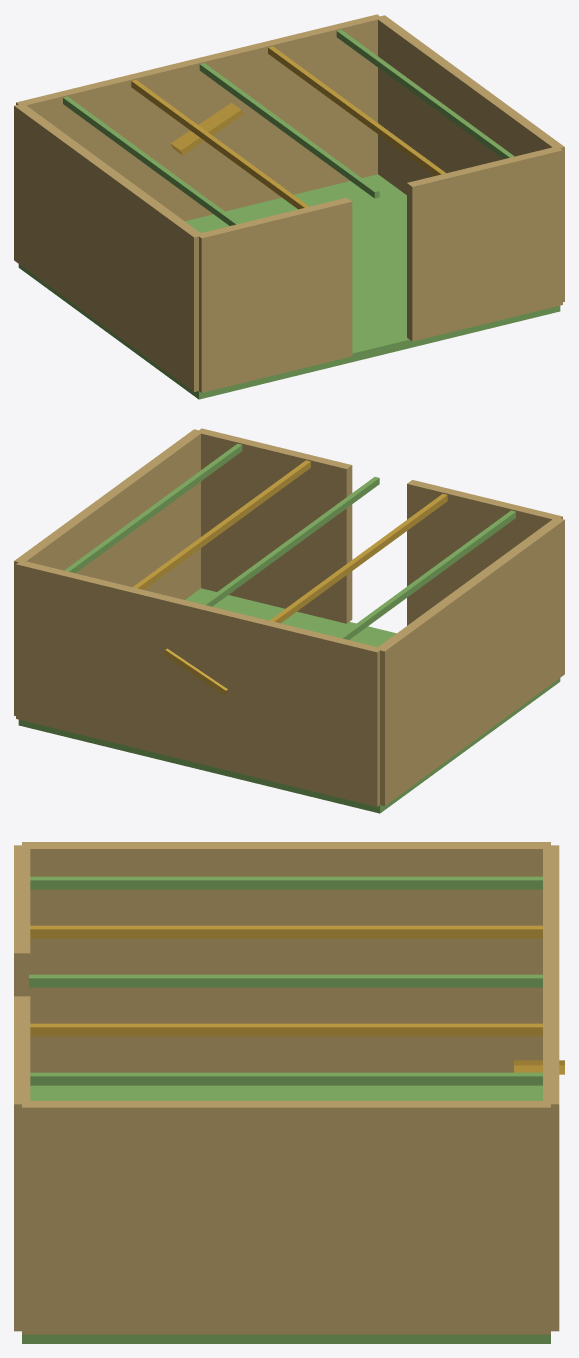
File: meadow_lodge.glb
3 renders of one model, top to bottom at view 1: azimuth 30°, elevation 25°; view 2: azimuth 150°, elevation 25°; view 3: azimuth 270°, elevation 25°, orthographic. The views are drawn at different scales.
Visible parts, largest first — view 1: wall_north, wall_west, wall_south_right, wall_south_left, wall_east, floor, ceiling_beam_0, ceiling_beam_2, ceiling_beam_-1, ceiling_beam_1, ceiling_beam_-2, purpose_adventure_lodge; view 2: wall_north, wall_west, wall_south_right, wall_east, wall_south_left, floor, ceiling_beam_0, ceiling_beam_2, ceiling_beam_-1, ceiling_beam_1, ceiling_beam_-2, purpose_adventure_lodge; view 3: wall_east, wall_west, floor, ceiling_beam_0, ceiling_beam_-2, ceiling_beam_-1, ceiling_beam_1, ceiling_beam_2, wall_north, wall_south_right, wall_south_left.
Part boxes in pixels (bbox=[...]): wall_north: bbox=[16, 14, 382, 221]; wall_west: bbox=[14, 104, 203, 391]; wall_south_right: bbox=[407, 146, 562, 341]; wall_south_left: bbox=[199, 197, 352, 392]; wall_east: bbox=[377, 15, 564, 301]; floor: bbox=[18, 174, 560, 399]; ceiling_beam_0: bbox=[199, 63, 379, 198]; ceiling_beam_2: bbox=[336, 29, 514, 159]; ceiling_beam_-1: bbox=[131, 80, 308, 209]; ceiling_beam_1: bbox=[268, 46, 445, 175]; ceiling_beam_-2: bbox=[63, 96, 240, 225]; purpose_adventure_lodge: bbox=[171, 102, 243, 155]; wall_north: bbox=[16, 561, 382, 806]; wall_west: bbox=[376, 517, 564, 805]; wall_south_right: bbox=[197, 428, 352, 623]; wall_east: bbox=[14, 429, 203, 715]; wall_south_left: bbox=[407, 480, 562, 625]; floor: bbox=[18, 588, 560, 813]; ceiling_beam_0: bbox=[201, 477, 379, 606]; ceiling_beam_2: bbox=[64, 443, 242, 573]; ceiling_beam_-1: bbox=[270, 494, 447, 623]; ceiling_beam_1: bbox=[133, 460, 310, 589]; ceiling_beam_-2: bbox=[338, 510, 515, 639]; purpose_adventure_lodge: bbox=[163, 648, 227, 695]; wall_east: bbox=[22, 1101, 550, 1334]; wall_west: bbox=[22, 842, 550, 1072]; floor: bbox=[22, 1085, 550, 1343]; ceiling_beam_0: bbox=[29, 974, 542, 987]; ceiling_beam_-2: bbox=[30, 876, 542, 889]; ceiling_beam_-1: bbox=[30, 925, 542, 938]; ceiling_beam_1: bbox=[30, 1023, 542, 1036]; ceiling_beam_2: bbox=[30, 1072, 542, 1085]; wall_north: bbox=[543, 845, 559, 1331]; wall_south_right: bbox=[14, 996, 30, 1331]; wall_south_left: bbox=[14, 845, 30, 996].
Size of what is drawn, in the model's own units: 13.55 by 5.7 by 11.88.
